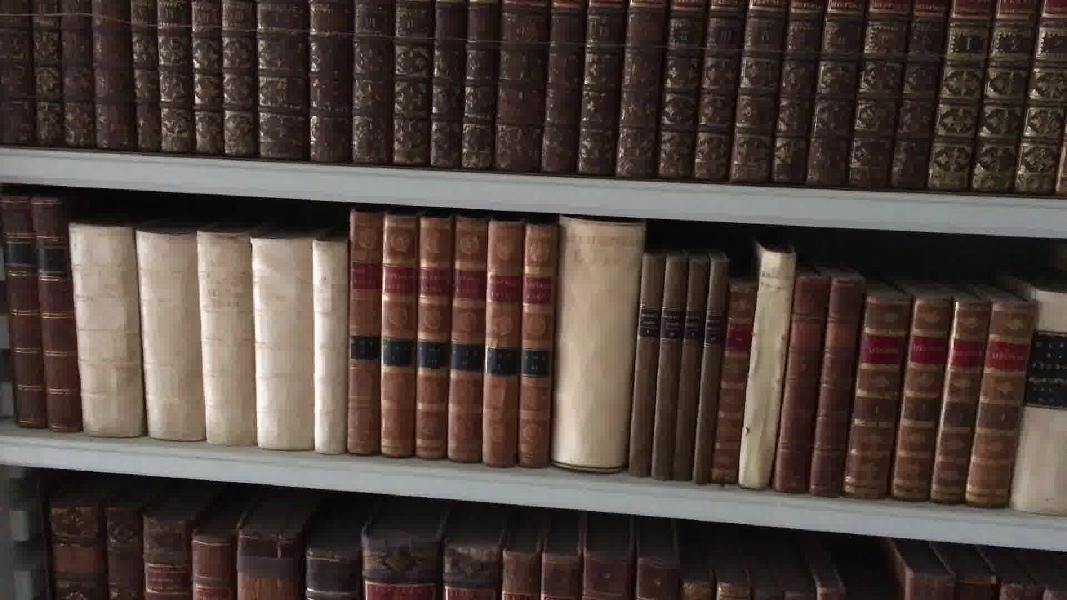Kk4-14: (559, 216, 642, 477)
Kk4-15_16: (632, 252, 687, 484)
Kk4-17_18: (674, 254, 727, 484)
Kk4-19: (718, 275, 754, 484)
Kk4-1_2: (2, 193, 81, 434)
Kk4-20: (742, 245, 795, 492)
Kk4-21_22: (773, 275, 860, 498)
Kk4-23_26: (840, 295, 1042, 512)
Kk4-27: (1020, 282, 1067, 514)
Kk4-3_7: (63, 219, 350, 455)
Kk4-8_13: (345, 209, 558, 469)
